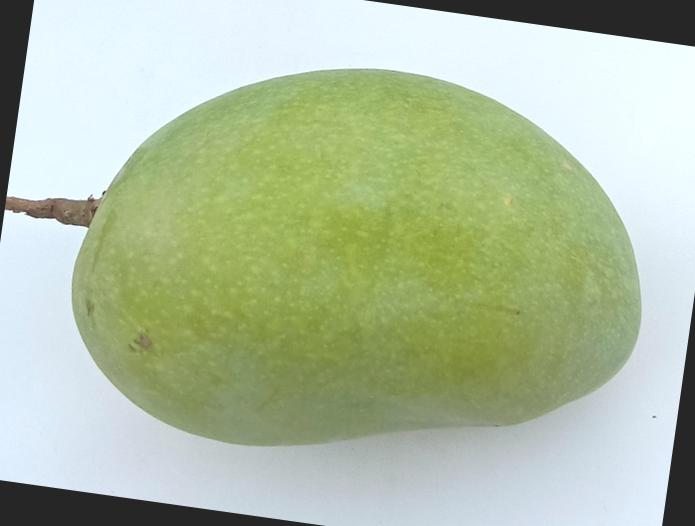Mango Unripe: (0, 0, 695, 521)
